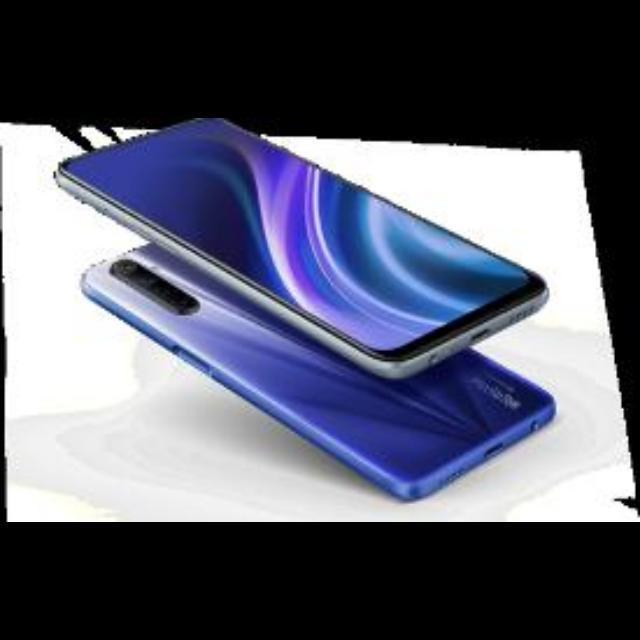PhoneUse: (84, 242, 554, 492), (54, 118, 546, 356)
